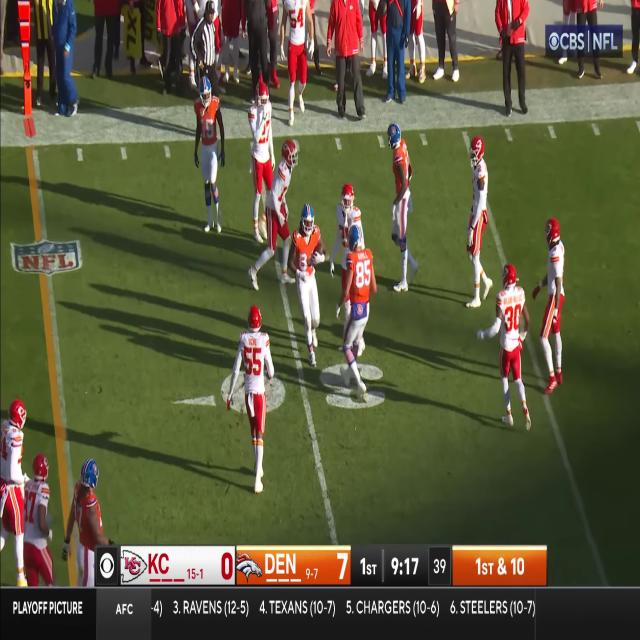Player: (254, 142, 298, 289), (338, 226, 374, 402), (382, 123, 418, 295), (0, 397, 31, 585), (240, 305, 270, 494), (292, 192, 324, 366), (193, 76, 227, 237), (20, 455, 61, 588), (497, 264, 528, 434), (536, 219, 565, 397), (466, 134, 492, 308), (248, 80, 274, 246), (70, 453, 110, 550)
Referee: (191, 0, 225, 79)
